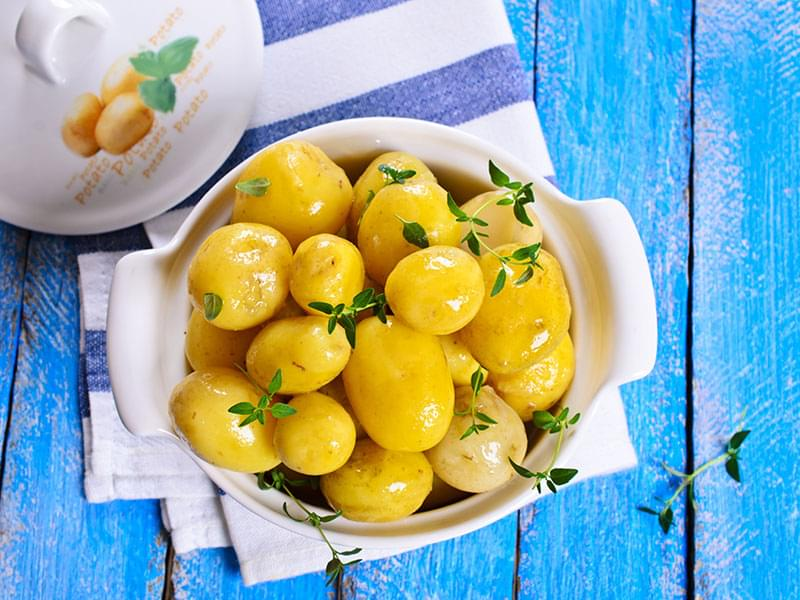boiled potatoes: (467, 240, 567, 373), (346, 322, 451, 447), (169, 372, 276, 470), (236, 144, 344, 237), (193, 226, 286, 322), (441, 391, 528, 491), (389, 244, 481, 332), (264, 394, 354, 474), (359, 188, 455, 262), (340, 447, 433, 518), (256, 315, 341, 387), (291, 232, 359, 320), (498, 340, 578, 408), (452, 187, 542, 247), (350, 156, 431, 218), (188, 311, 252, 377)
